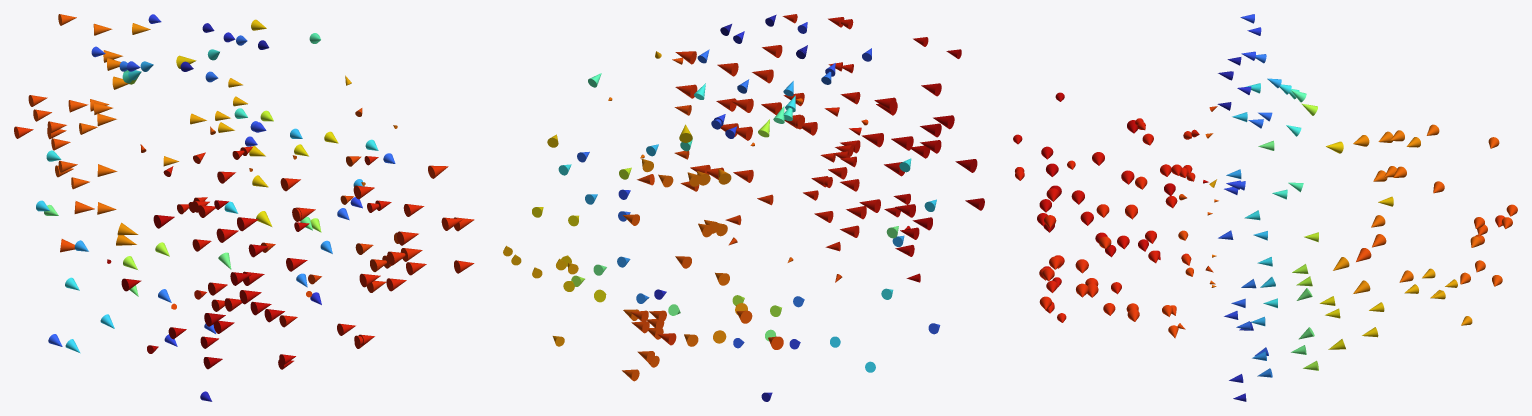
File: LineasCorrienteH2-O2_mh2-5.58_V-0.7.glb
The picture shows the model from 3 angles, left to right: view 1: azimuth 30°, elevation 25°; view 2: azimuth 150°, elevation 25°; view 3: azimuth 270°, elevation 25°; orthographic projection. The views are drawn at different scales.
Size of the model in its own units: 0.000926 by 0.000969 by 0.00125.
2 materials, 2 textured.
